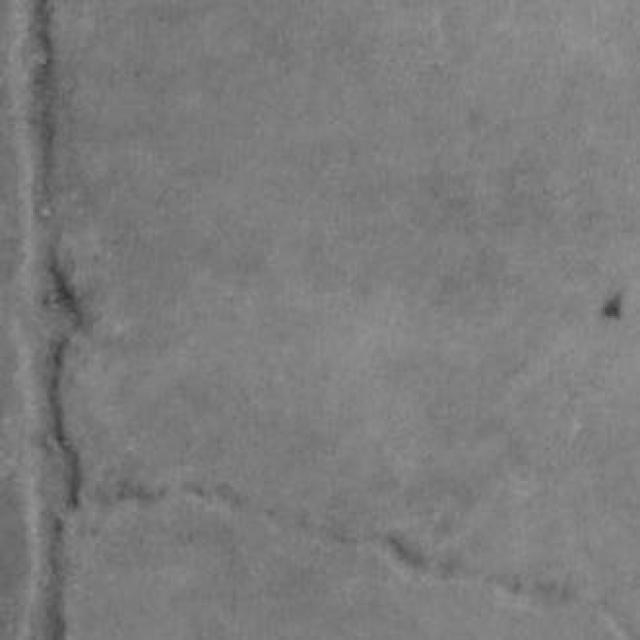crack: (10, 0, 81, 639), (43, 338, 83, 510)
